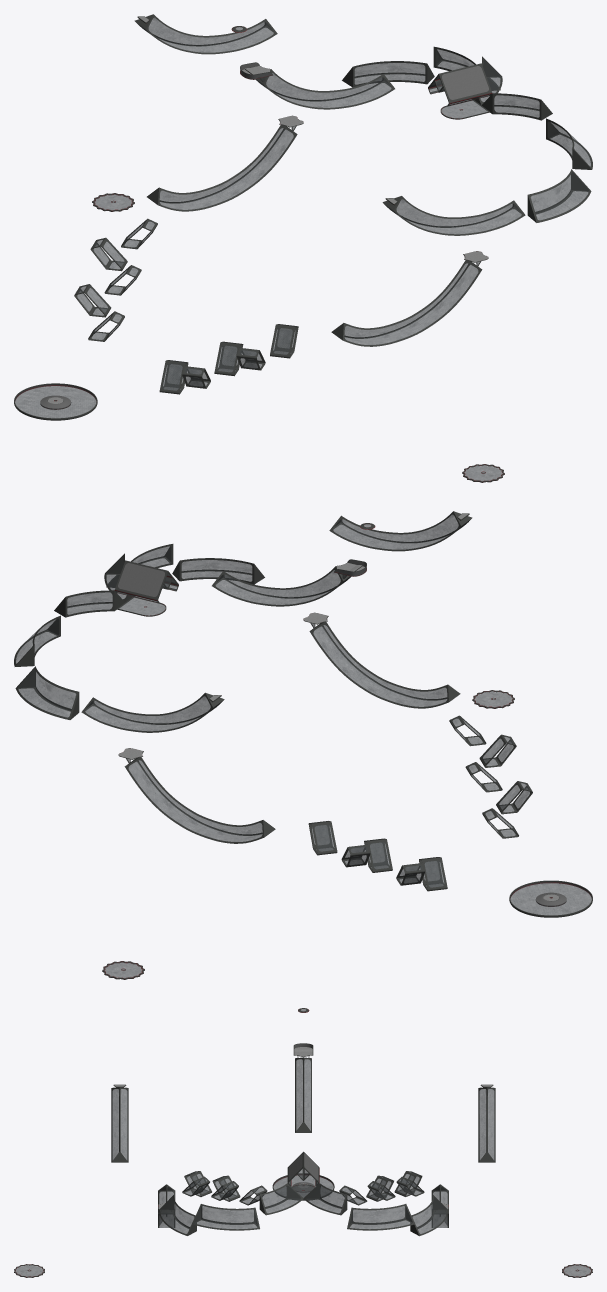
3 views of the same model, one above another, from view 1: azimuth 30°, elevation 25°; view 2: azimuth 150°, elevation 25°; view 3: azimuth 270°, elevation 25° (orthographic). The views are drawn at different scales.
Visible parts, largest first — view 1: surf_skyworld3.011; view 2: surf_skyworld3.011; view 3: surf_skyworld3.011.
Boxes of the visible parts, left/top/right/bottom form: surf_skyworld3.011: left=14, top=14, right=592, bottom=482; surf_skyworld3.011: left=14, top=511, right=592, bottom=979; surf_skyworld3.011: left=14, top=1008, right=592, bottom=1277.
Bounding box in the file's own units: 2.61 × 1.6 × 3.43.
5 materials, 5 textured.
